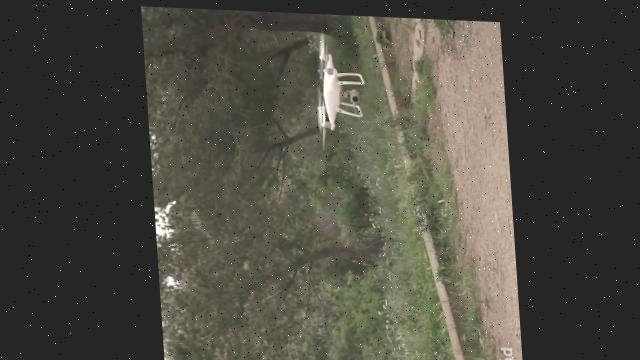drone: (309, 30, 366, 151)
